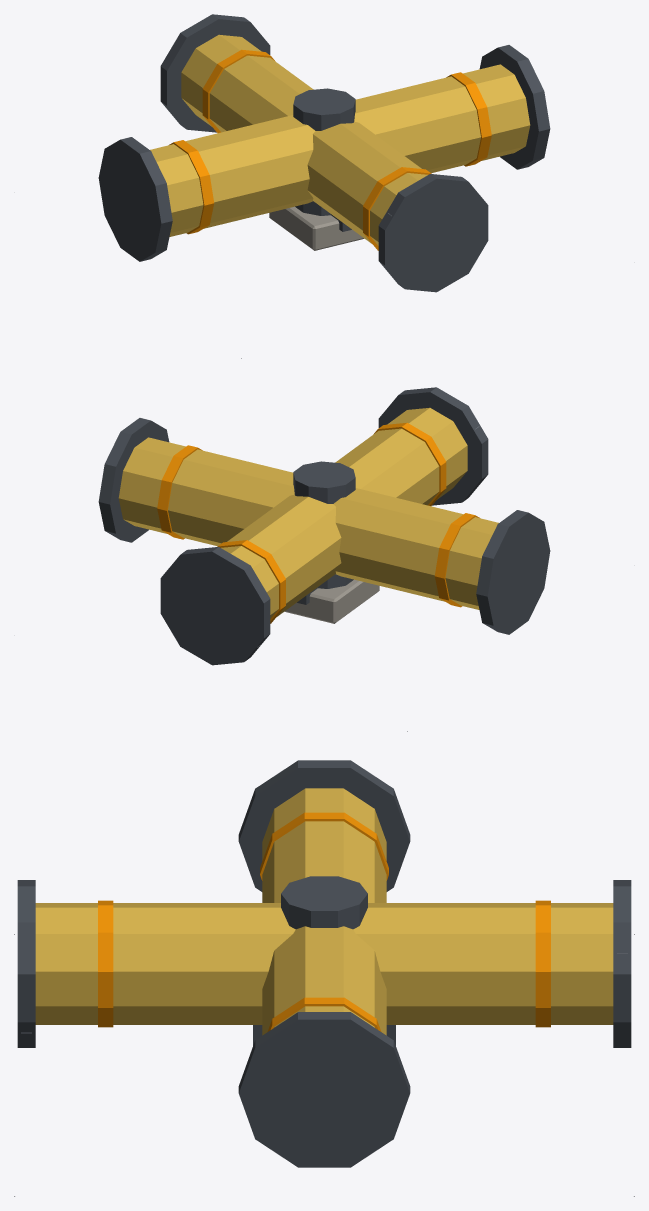
The model's file is tuyau_croix_t2.glb.
The picture shows the model from 3 angles, top to bottom: view 1: azimuth 30°, elevation 25°; view 2: azimuth 150°, elevation 25°; view 3: azimuth 270°, elevation 25°; orthographic projection. The views are drawn at different scales.
Visible parts, largest first — view 1: pieces_laiton.014, pieces_acier_sombre.044, pieces_rive_t2.014, pieces_beton.044; view 2: pieces_laiton.014, pieces_acier_sombre.044, pieces_rive_t2.014, pieces_beton.044; view 3: pieces_laiton.014, pieces_acier_sombre.044, pieces_rive_t2.014.
Part boxes in pixels (<box>): pieces_laiton.014: <box>150,34,530,245</box>; pieces_acier_sombre.044: <box>98,14,550,292</box>; pieces_rive_t2.014: <box>169,49,491,250</box>; pieces_beton.044: <box>269,206,364,250</box>; pieces_laiton.014: <box>118,407,498,618</box>; pieces_acier_sombre.044: <box>98,387,550,665</box>; pieces_rive_t2.014: <box>157,422,479,623</box>; pieces_beton.044: <box>284,579,379,623</box>; pieces_laiton.014: <box>35,788,613,1035</box>; pieces_acier_sombre.044: <box>17,760,631,1167</box>; pieces_rive_t2.014: <box>98,812,550,1031</box>.
Bounding box in the file's own units: 1 × 0.318 × 1.
